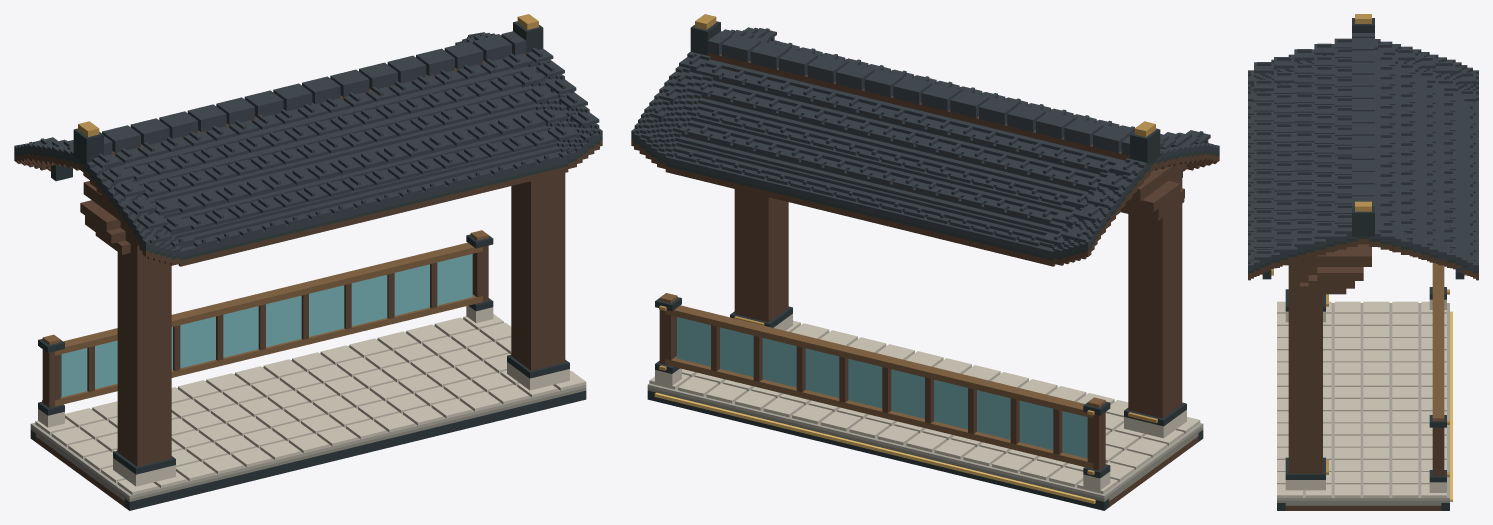
File: BUILT-090.glb
3 views of the same model, side by side, from view 1: azimuth 30°, elevation 25°; view 2: azimuth 150°, elevation 25°; view 3: azimuth 270°, elevation 25° (orthographic). The views are drawn at different scales.
Parts seen in each view (by area): view 1: 天枢级间飞檐外廊; view 2: 天枢级间飞檐外廊; view 3: 天枢级间飞檐外廊.
Part boxes in pixels (bbox=[...]): 天枢级间飞檐外廊: bbox=[14, 14, 602, 510]; 天枢级间飞檐外廊: bbox=[631, 14, 1219, 510]; 天枢级间飞檐外廊: bbox=[1248, 14, 1478, 510].
Bounding box in the file's own units: 6.4 × 4.64 × 3.2.
Materials: 11 (11 with a texture image).
